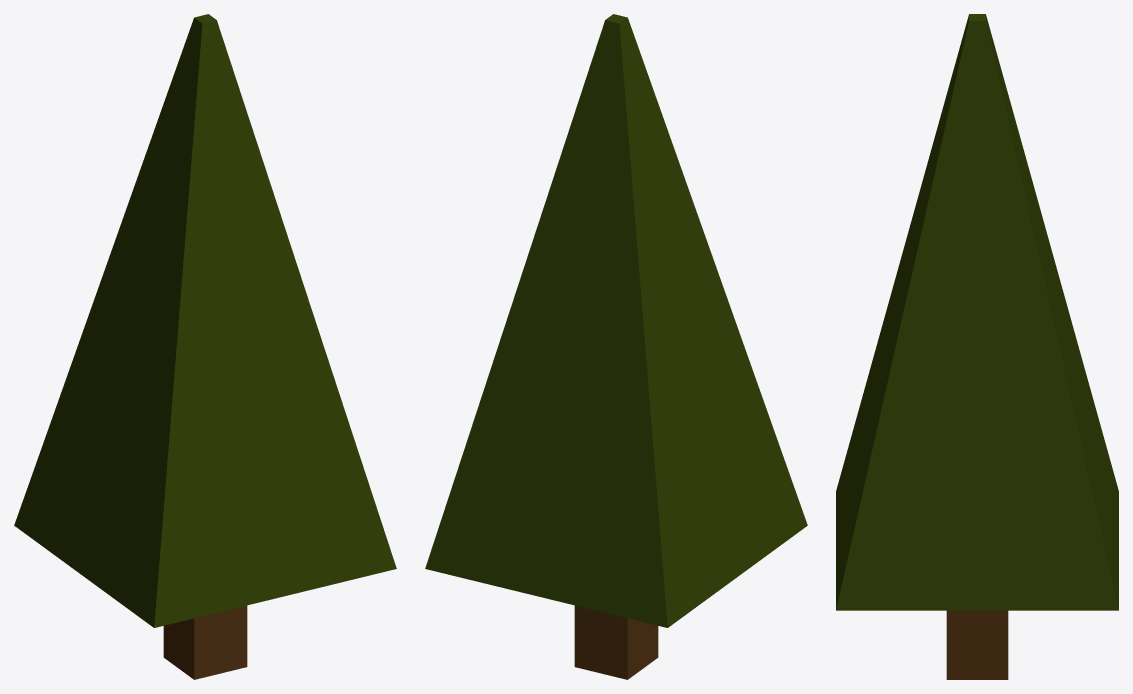
File: ForestTreeSpruce_01.fbx
The picture shows the model from 3 angles, left to right: view 1: azimuth 30°, elevation 25°; view 2: azimuth 150°, elevation 25°; view 3: azimuth 270°, elevation 25°; orthographic projection.
Visible parts, largest first — view 1: ForestTreeSpruce_01; view 2: ForestTreeSpruce_01; view 3: ForestTreeSpruce_01.
Part boxes in pixels (box(x1,y1,x2,y2)): ForestTreeSpruce_01: box(14, 14, 396, 679); ForestTreeSpruce_01: box(425, 14, 807, 679); ForestTreeSpruce_01: box(836, 14, 1118, 679).
Size of the model in its own units: 33.33 by 84.48 by 33.33.
